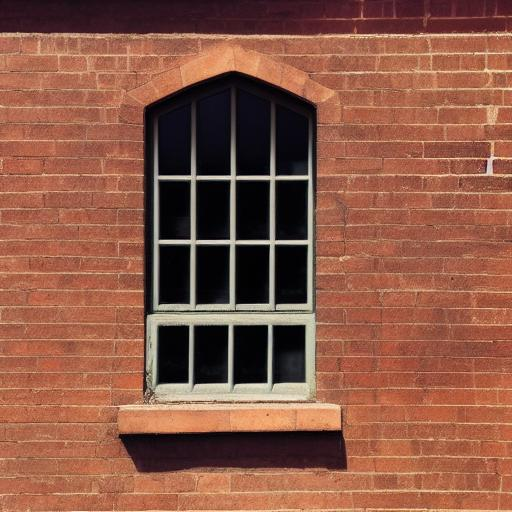Window: (115, 42, 348, 437)
